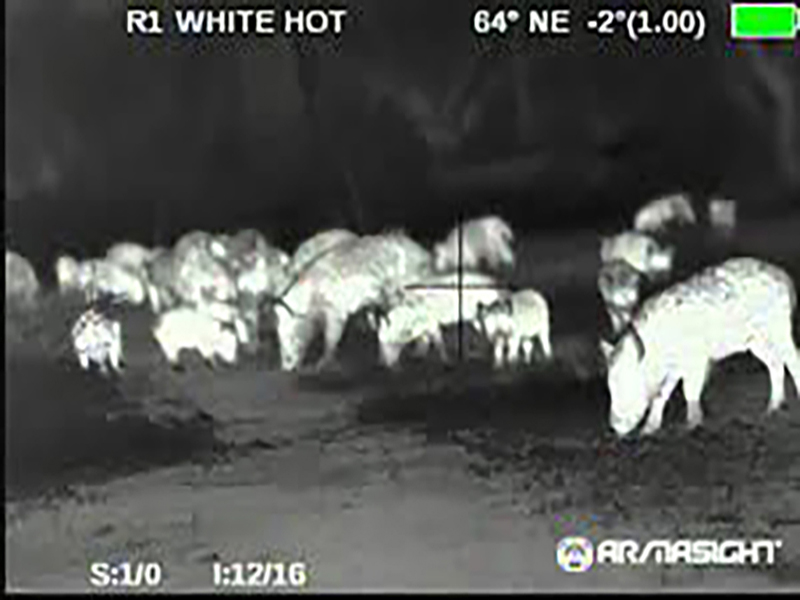cinghiale: (595, 253, 795, 437), (272, 228, 431, 372), (369, 269, 507, 375), (478, 283, 553, 376), (205, 228, 297, 300), (59, 255, 153, 312), (431, 214, 516, 276), (152, 305, 238, 363), (593, 227, 681, 279), (67, 305, 127, 376), (590, 256, 643, 328), (632, 197, 704, 235)
